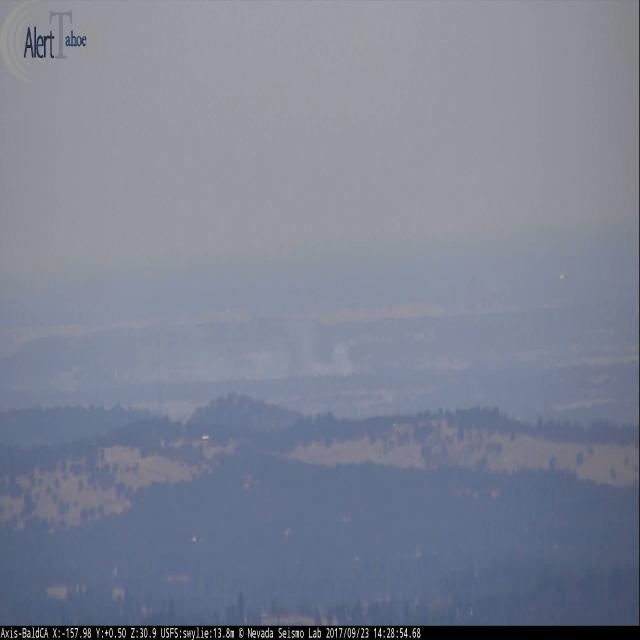smoke: (207, 336, 352, 370)
